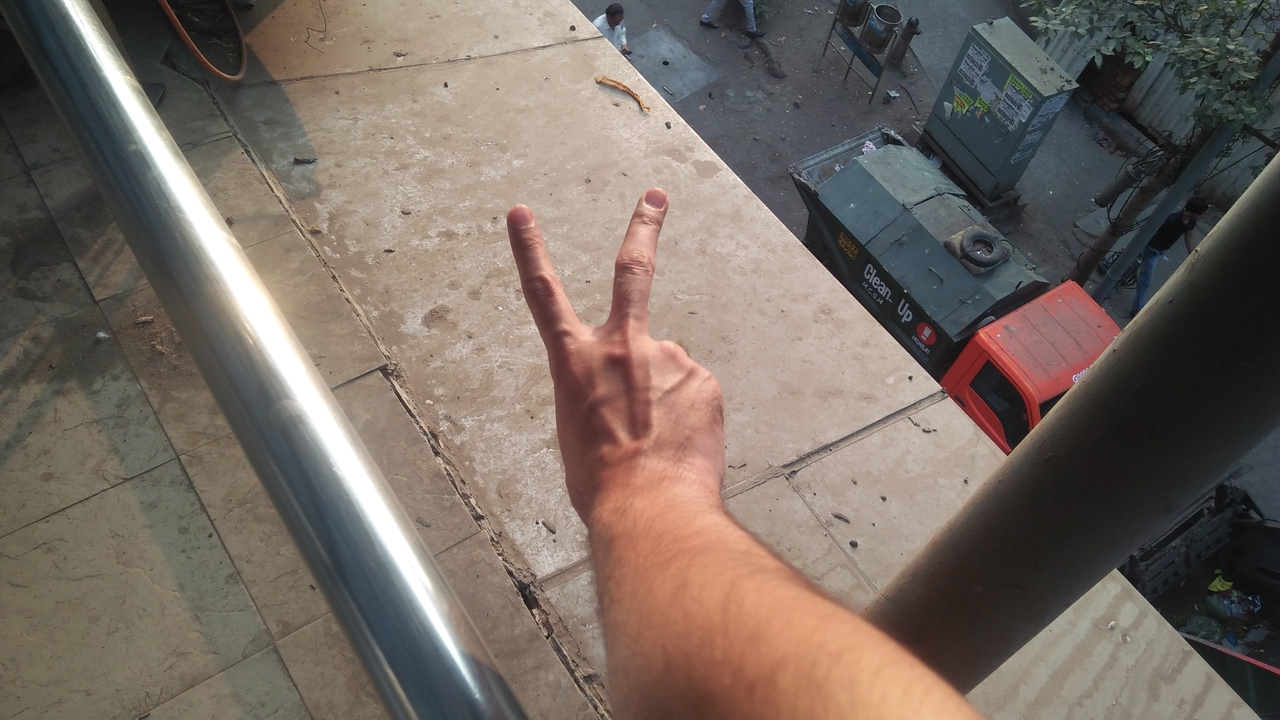fingertip: (622, 170, 680, 224), (494, 192, 544, 244)
